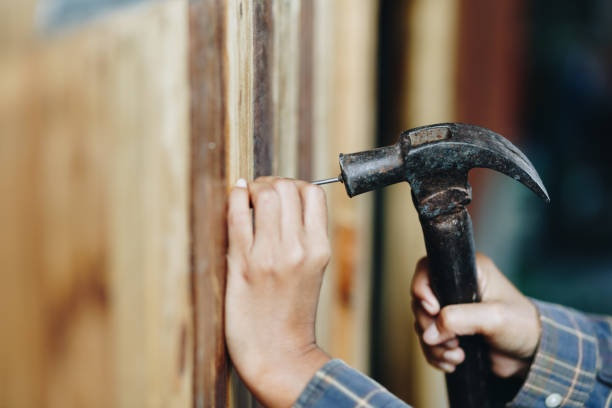hammer: (337, 119, 551, 408)
